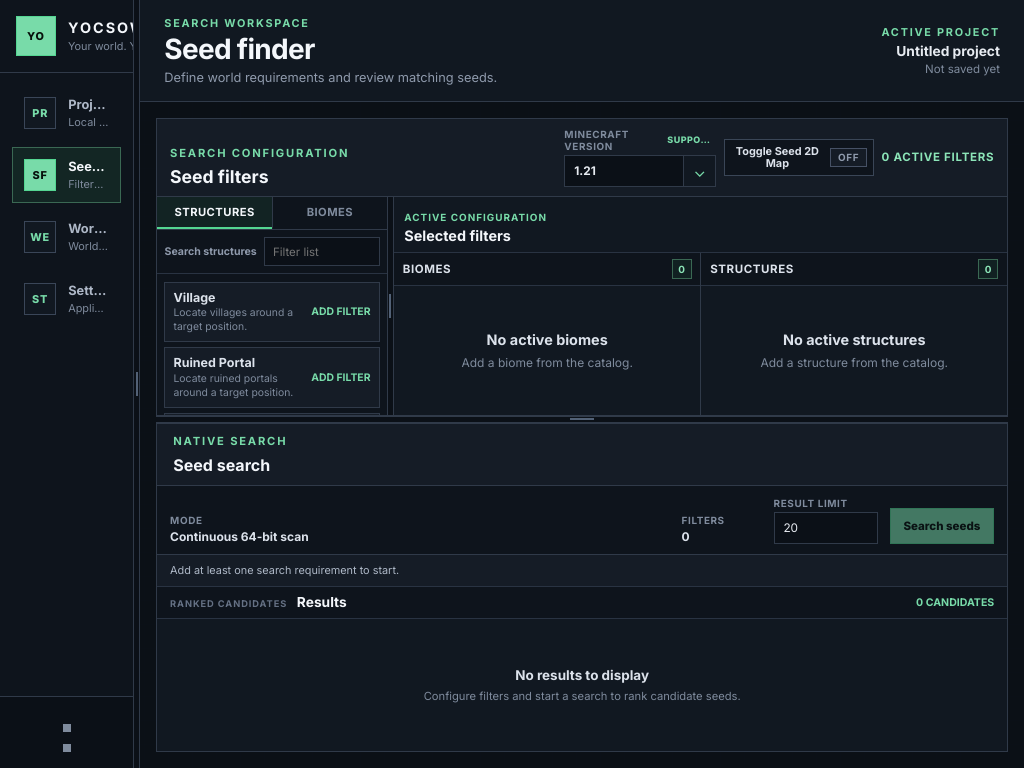
Test: App › switches between workspace views without duplicating panels
Click the button "PR Project Local project files": (67, 113) [12, 85, 121, 141]
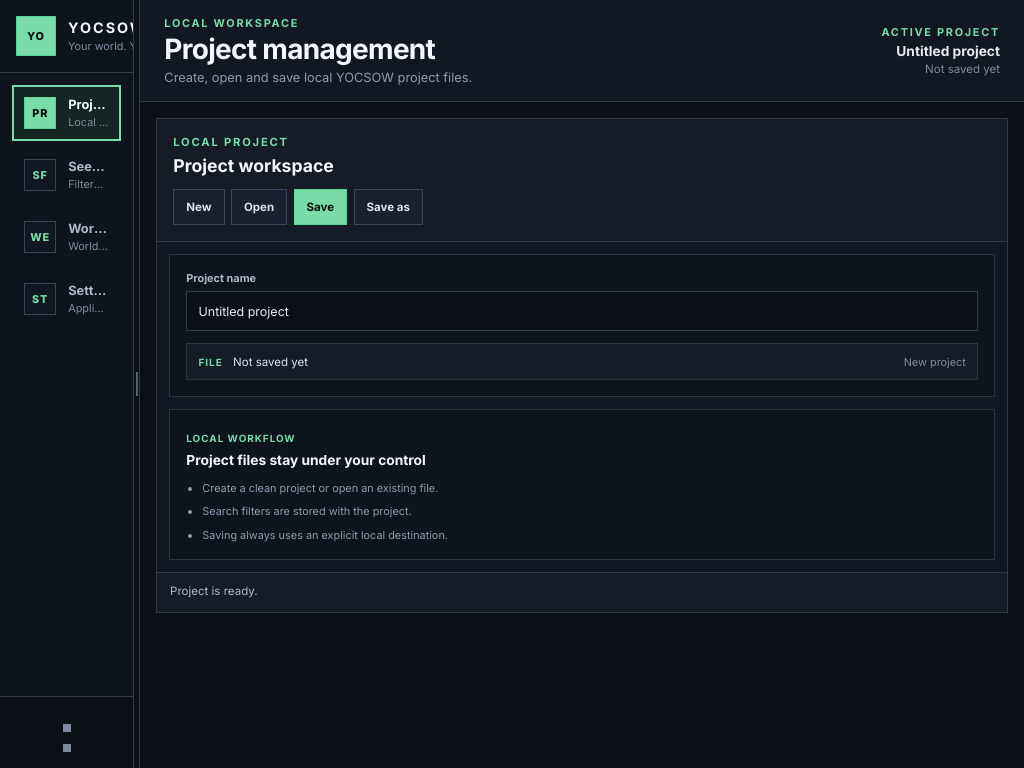
expect the heading "Project management" is shown: met, box [164, 34, 472, 65]
expect the heading "Project workspace" is shown: met, box [173, 155, 334, 176]
expect the heading "Seed filters" is gone: met
